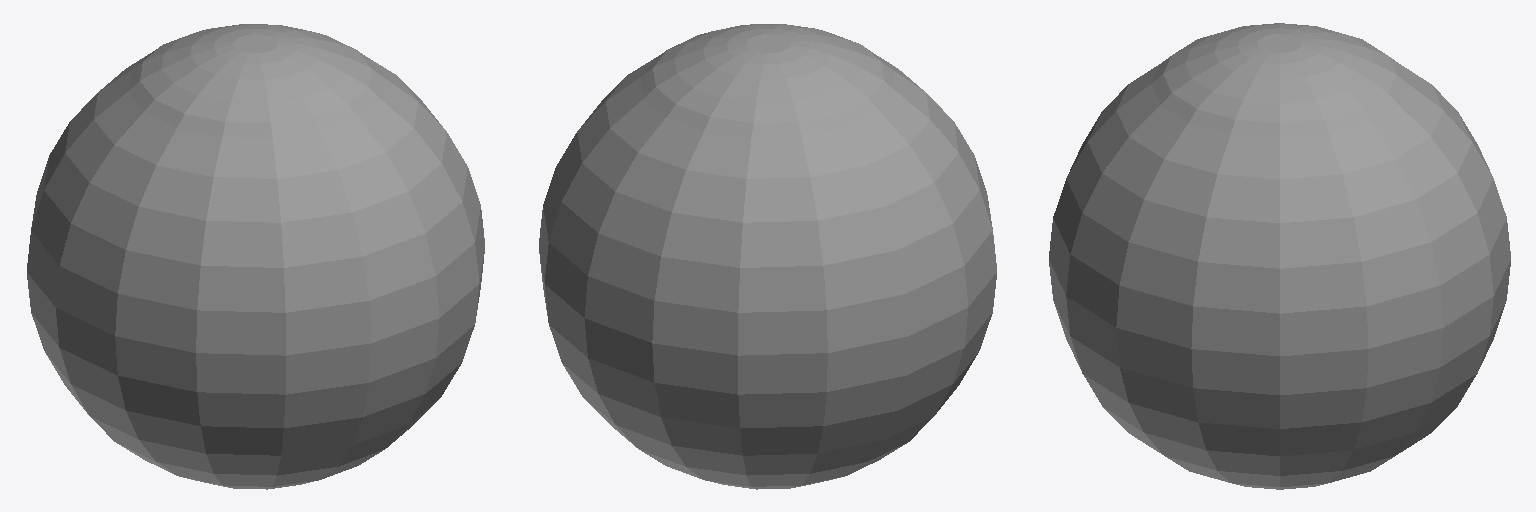
Rendered from Eye_1.obj.
3 views of the same model, side by side, from view 1: azimuth 30°, elevation 25°; view 2: azimuth 150°, elevation 25°; view 3: azimuth 270°, elevation 25° (orthographic).
Parts seen in each view (by area): view 1: obolochka_Sphere.004; view 2: obolochka_Sphere.004; view 3: obolochka_Sphere.004.
Part boxes in pixels (x1,y1,x2,y2): obolochka_Sphere.004: (27,24,484,489); obolochka_Sphere.004: (539,24,996,489); obolochka_Sphere.004: (1049,23,1510,489).
Bounding box in the file's own units: 10.94 × 11.08 × 10.94.